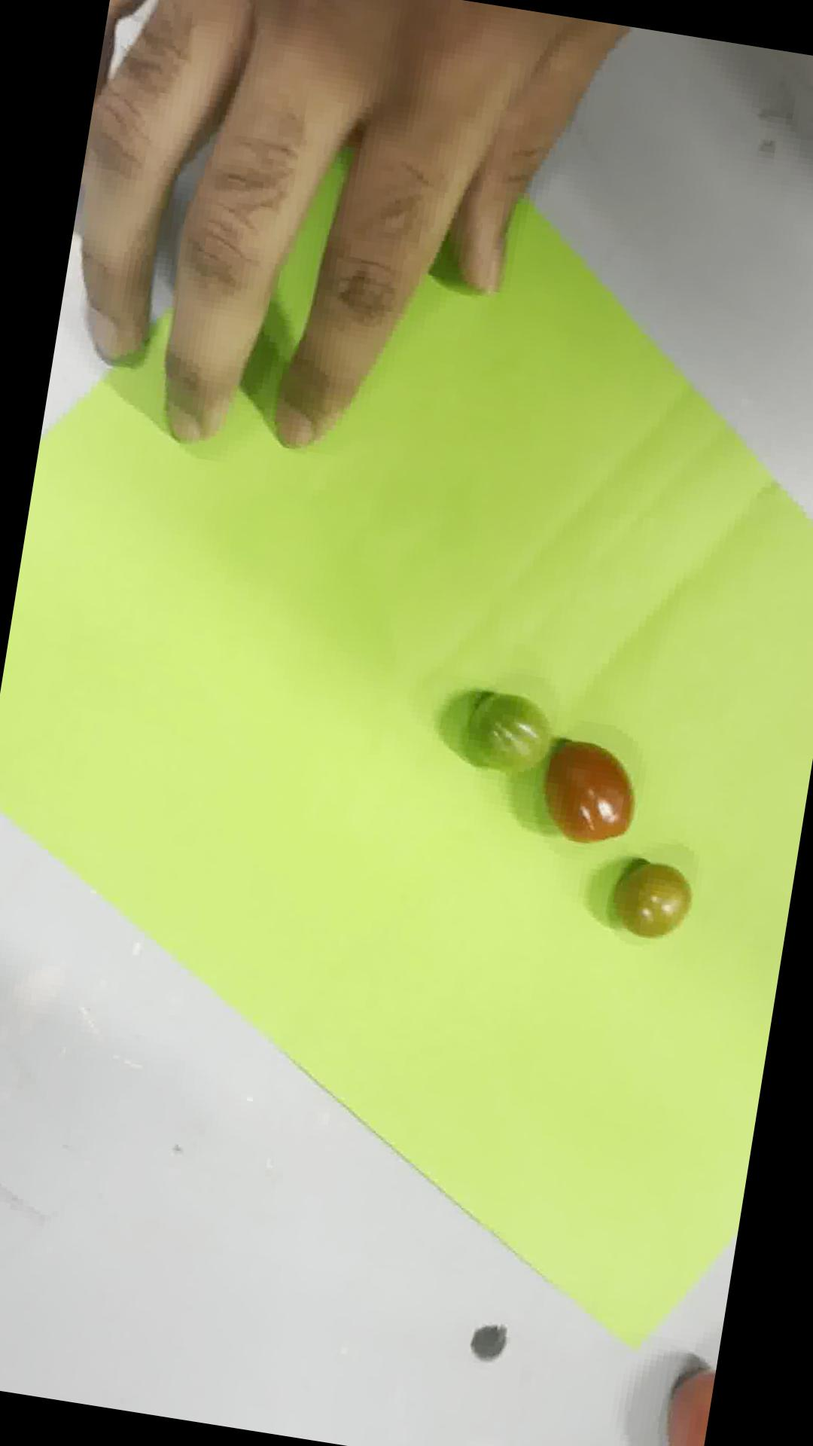green_cherry_tomato: (467, 692, 552, 774)
red_cherry_tomato: (544, 741, 633, 842)
yellow_cherry_tomato: (613, 860, 691, 939)
